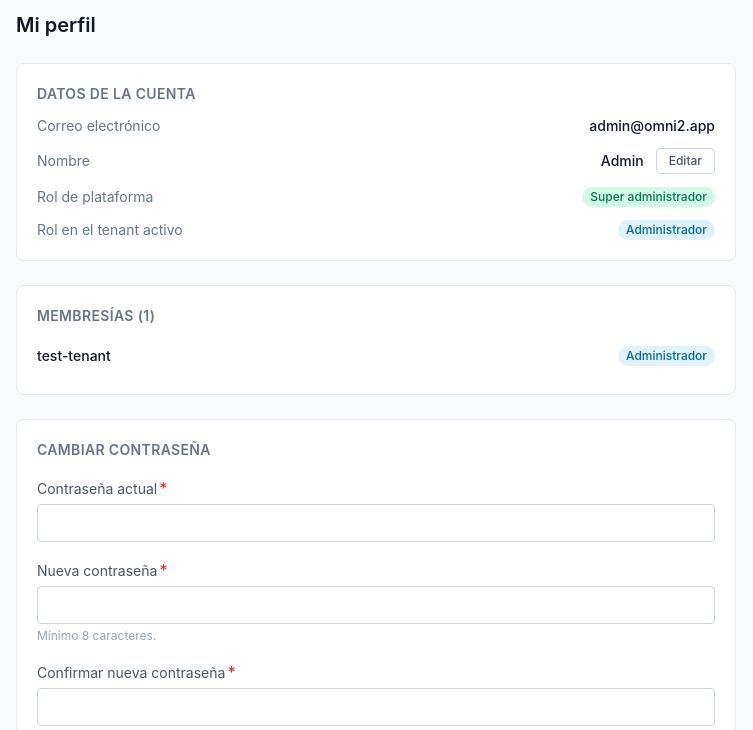
Test case: ProfileSection › valida que el nombre no pueda quedar vacío al editar el perfil
Click the button "Editar". click: (685, 161)
box: [656,148,715,174]
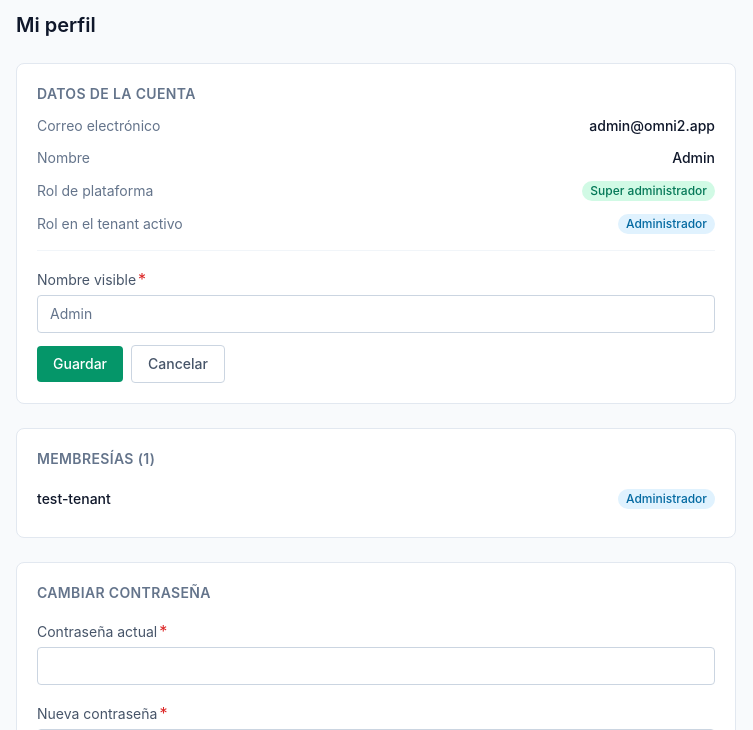
Clear the field labelled "Nombre visible". click: (376, 314)
box: [37,295,715,333]
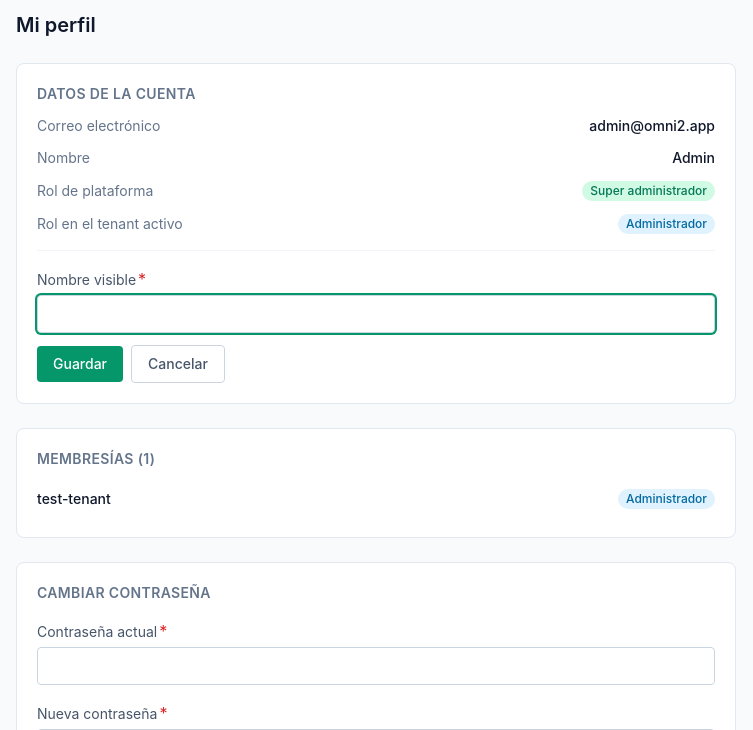
Click the button "Guardar". click: (80, 364)
box: [37,346,123,382]
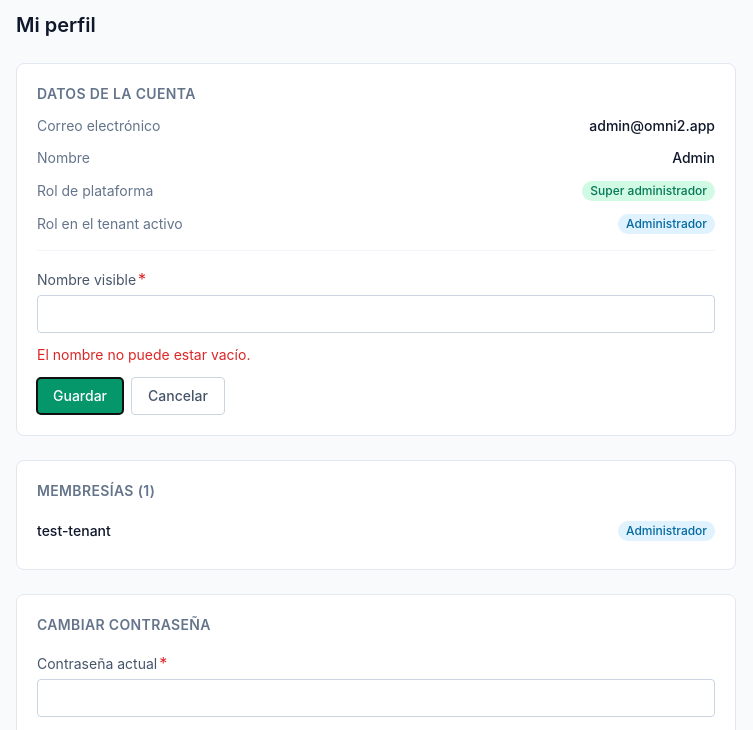
Expected: the message reads "El nombre no puede estar vacío.", [37,346,250,363]
